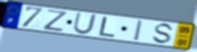7: (21, 5, 45, 28)
I: (133, 19, 144, 42)
L: (97, 16, 117, 38)
S: (151, 23, 176, 45)
U: (72, 12, 98, 35)
Z: (41, 9, 68, 33)
